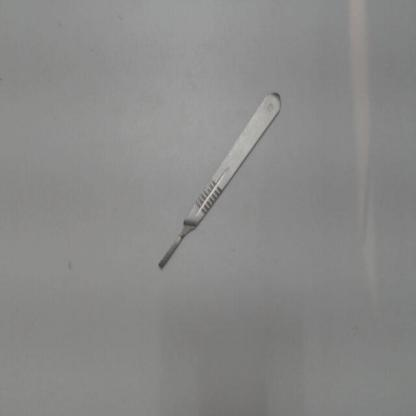No.4 BP Handle: (149, 82, 289, 284)
